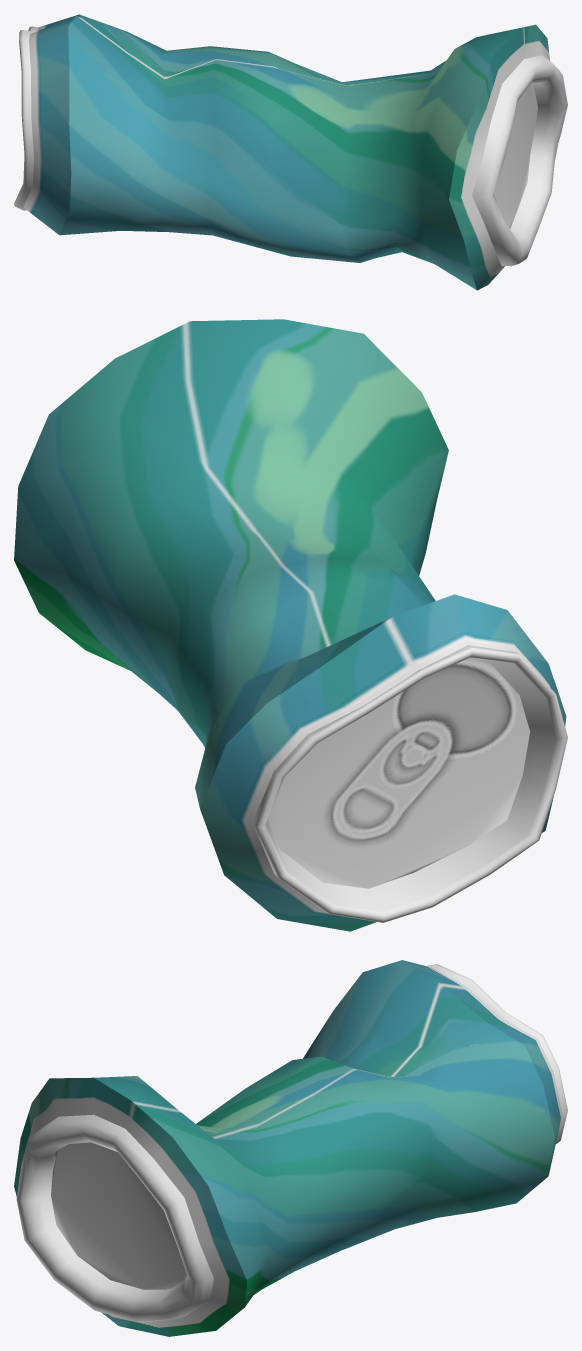
Rendered from 0_Other_009_2.fbx.
3 renders of one model, top to bottom at view 1: azimuth 30°, elevation 25°; view 2: azimuth 150°, elevation 25°; view 3: azimuth 270°, elevation 25°, orthographic. The views are drawn at different scales.
Visible parts, largest first — view 1: Other_009_2; view 2: Other_009_2; view 3: Other_009_2.
Part boxes in pixels (left/top/right/bottom): Other_009_2: left=14, top=14, right=567, bottom=290; Other_009_2: left=14, top=319, right=567, bottom=931; Other_009_2: left=14, top=960, right=567, bottom=1336.
Bounding box in the file's own units: 16.37 × 8.31 × 16.96.
